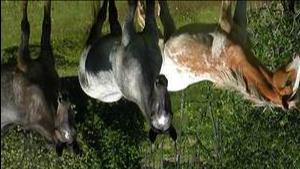horse: (136, 1, 300, 113), (77, 1, 177, 145), (1, 1, 83, 158)
